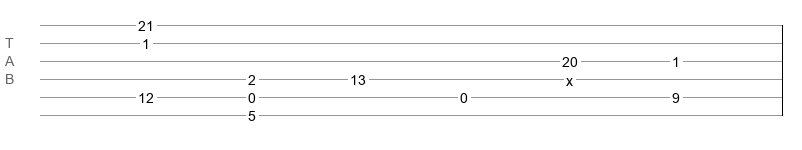0: (248, 90, 256, 100), (460, 90, 468, 100)
1: (142, 36, 150, 46), (672, 54, 680, 64)
12: (138, 90, 154, 100)
13: (350, 72, 366, 82)
2: (248, 72, 256, 82)
20: (562, 54, 578, 64)
21: (138, 18, 154, 28)
5: (248, 108, 256, 118)
9: (672, 90, 680, 100)
x: (566, 73, 573, 81)
